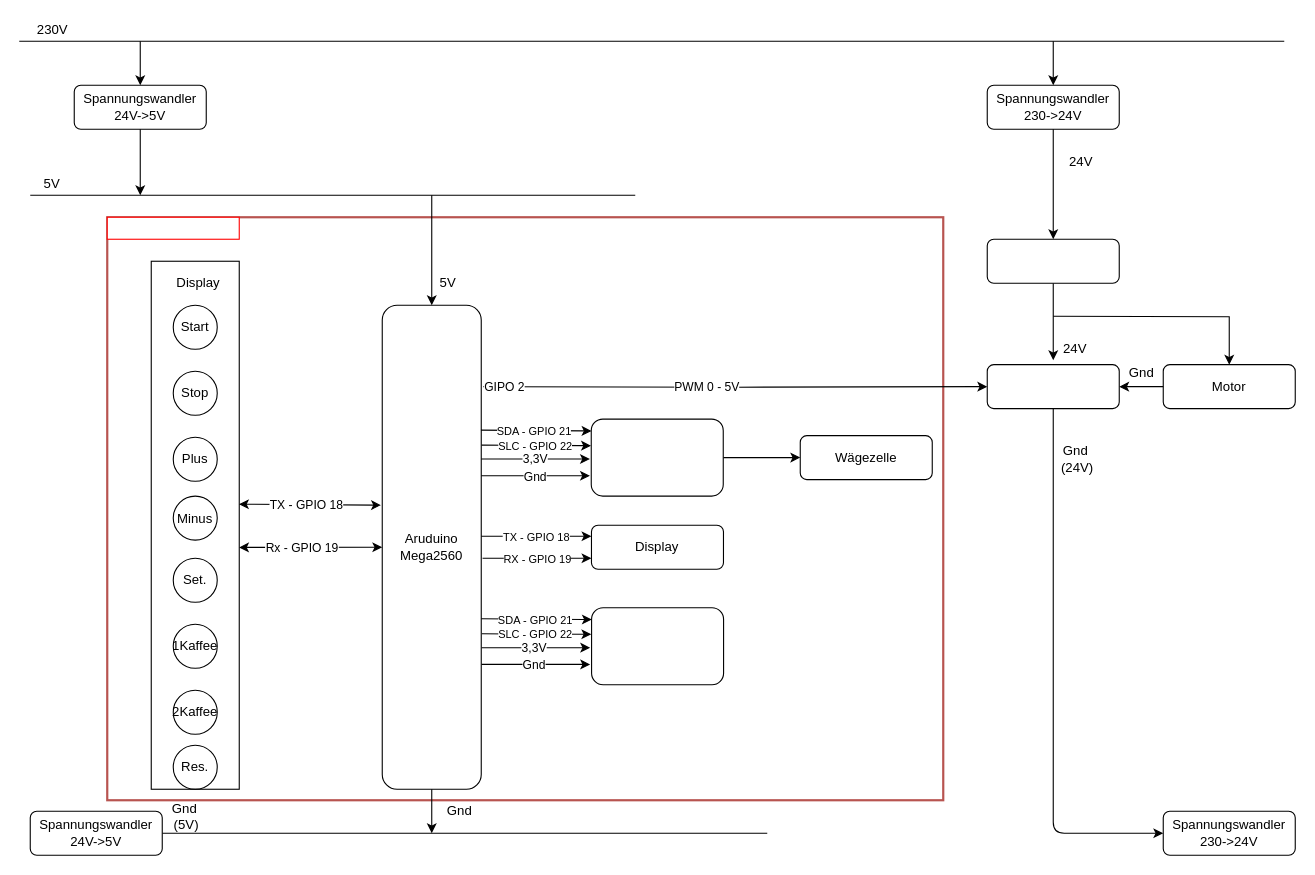
The diagram is 1315 pixels wide and 875 high, and some of its shapes have lost their labels. The centre of each missing label's shape, as x and y in pixels:
Bosh BME - Temp- Feuchtigkeitssensor: [657,646]
Leistungsregler: [1052,386]
Sicherung 20A: [1052,260]
SparkFun Qwiic Scale - NAU7802: [656,457]
Steuerstromkreis: [172,227]
